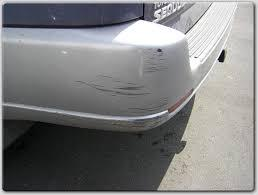rear-bumper-dent: (5, 20, 233, 133)
